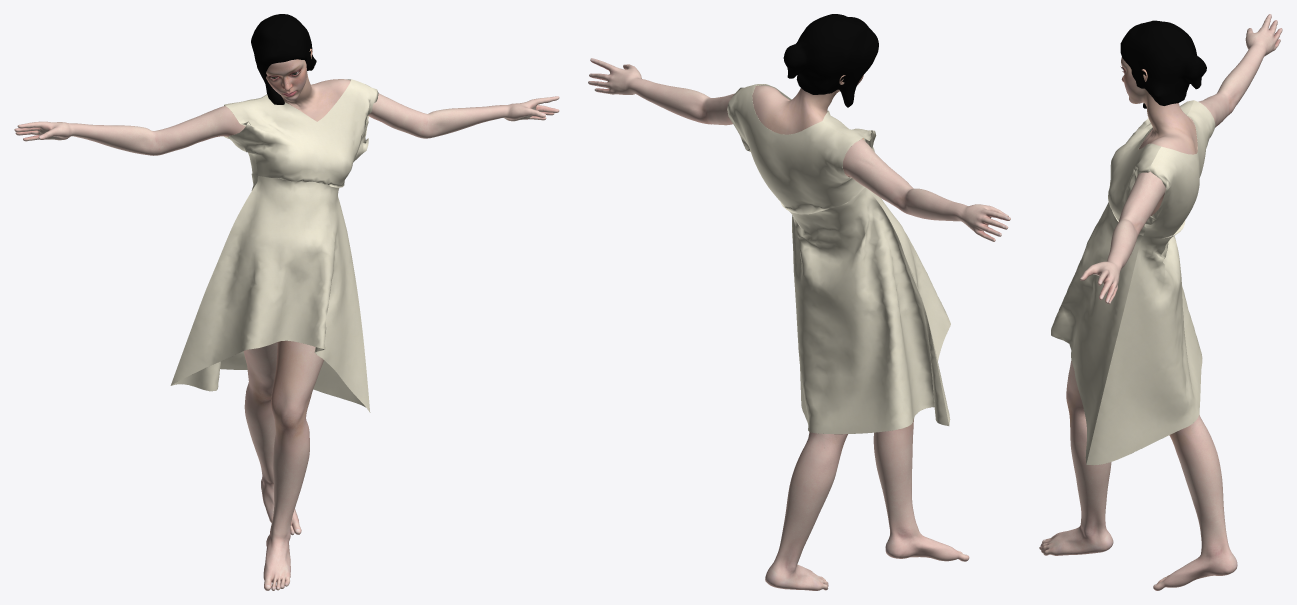
File: Dynamic.obj
3 renders of one model, left to right at view 1: azimuth 30°, elevation 25°; view 2: azimuth 150°, elevation 25°; view 3: azimuth 270°, elevation 25°, orthographic. The views are drawn at different scales.
Size of the model in its own units: 1601 by 1717 by 679.
